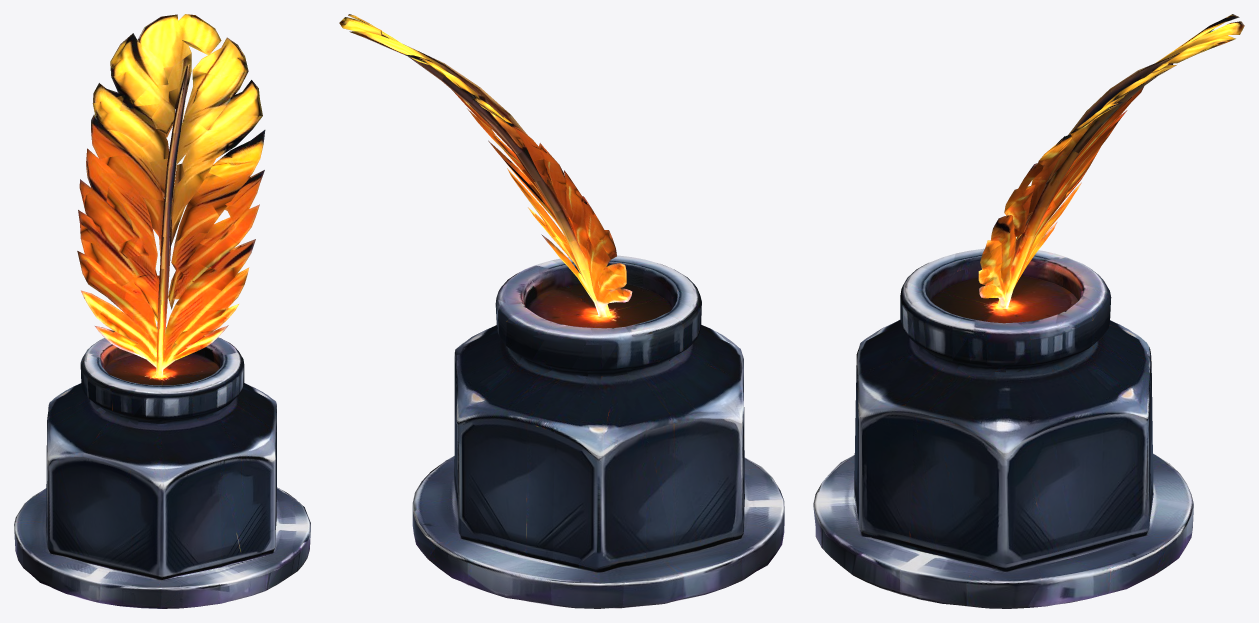
File: phoenix_feather.glb
3 renders of one model, left to right at view 1: azimuth 30°, elevation 25°; view 2: azimuth 150°, elevation 25°; view 3: azimuth 270°, elevation 25°, orthographic. The views are drawn at different scales.
Size of the model in its own units: 0.6367 by 1 by 0.6973.
Materials: 1 (1 with a texture image).
